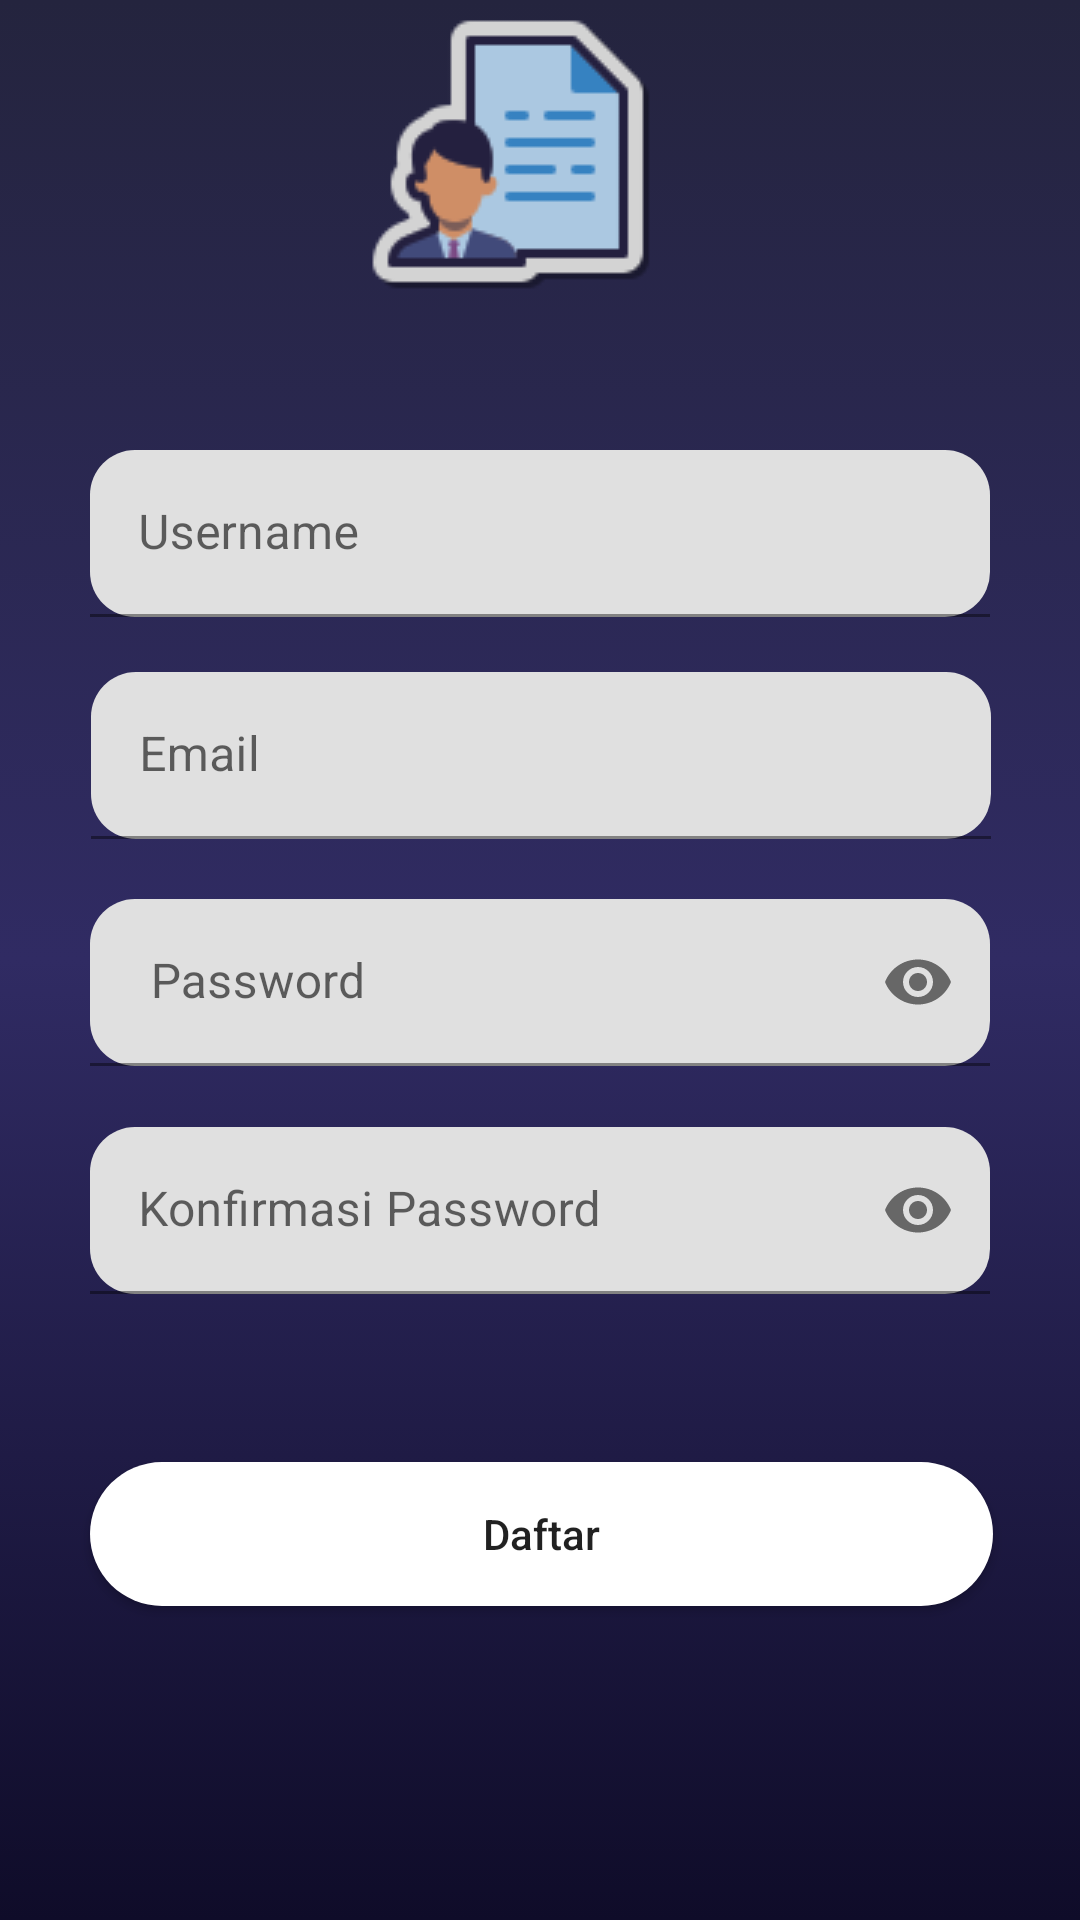

Named icons in this screenshot (1080×1920) and their centers, (x=x, y=y):
login profile: (x=510, y=151)
